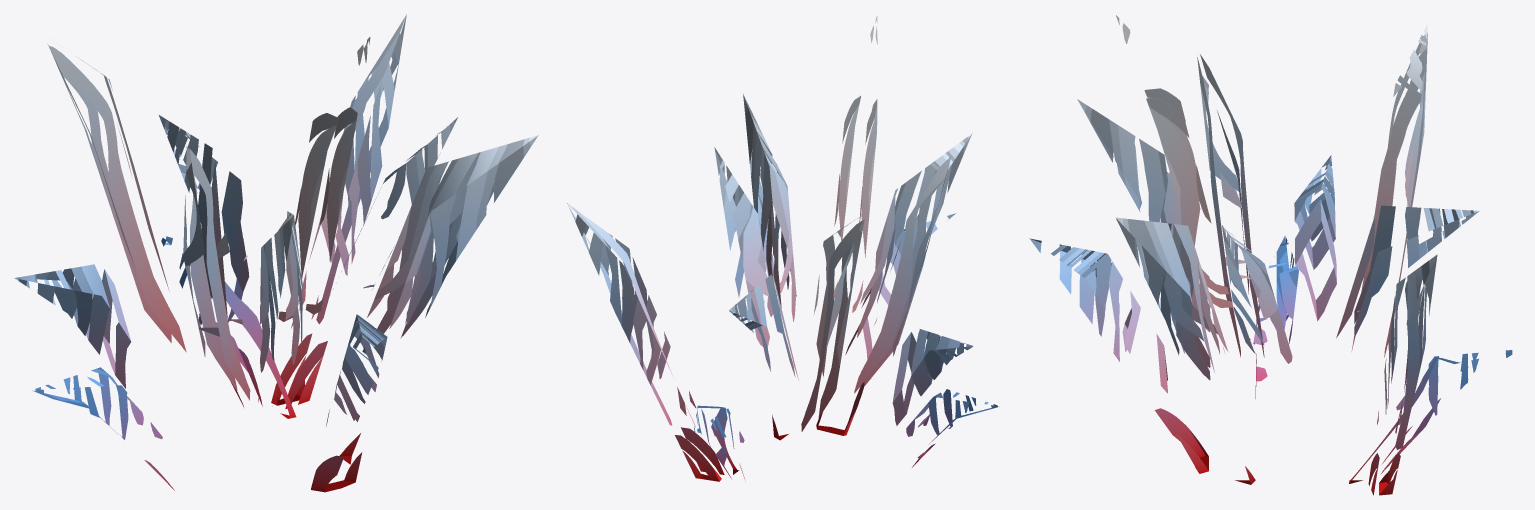
The model's file is synty-plant-reeds-02.gltf.
The picture shows the model from 3 angles, left to right: view 1: azimuth 30°, elevation 25°; view 2: azimuth 150°, elevation 25°; view 3: azimuth 270°, elevation 25°; orthographic projection. The views are drawn at different scales.
Parts seen in each view (by area): view 1: SM_Plant_Reeds_02; view 2: SM_Plant_Reeds_02; view 3: SM_Plant_Reeds_02.
Part boxes in pixels (bbox=[...]): SM_Plant_Reeds_02: bbox=[14, 14, 538, 492]; SM_Plant_Reeds_02: bbox=[567, 16, 999, 481]; SM_Plant_Reeds_02: bbox=[1029, 15, 1512, 495].
Size of the model in its own units: 0.9946 by 1.01 by 1.01.
Materials: 1 (1 with a texture image).
